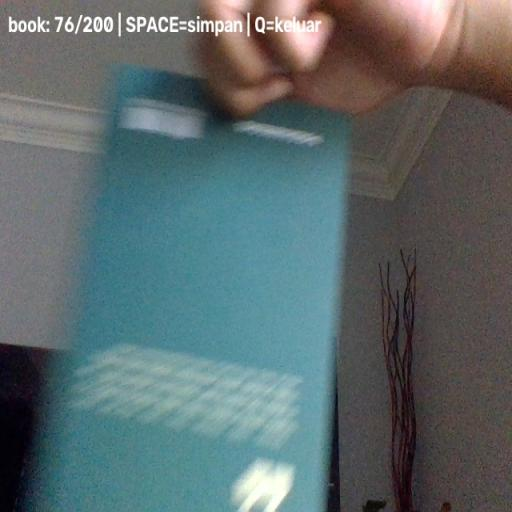Book: (18, 64, 352, 512)
